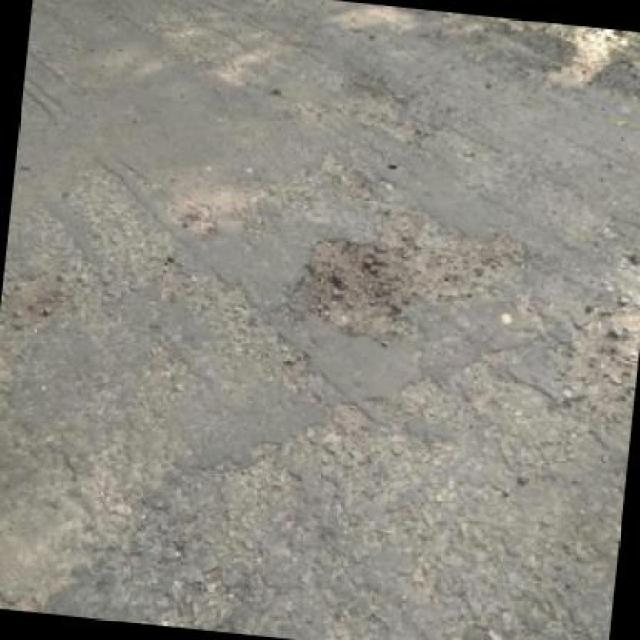pothole: (282, 227, 408, 339)
